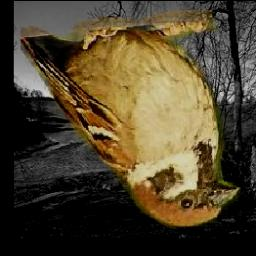Sparrow: (20, 10, 243, 229)
